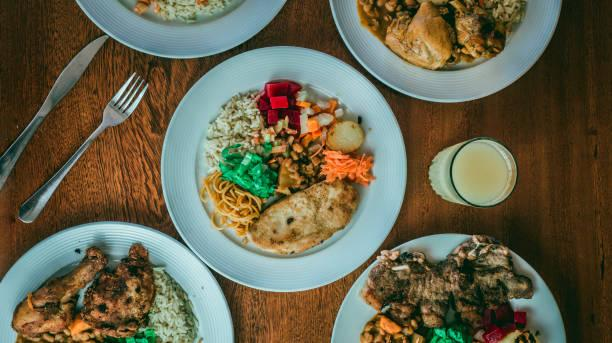Braised Crucian Carp: (163, 45, 403, 292), (0, 220, 235, 342), (327, 232, 563, 341), (333, 0, 560, 102)
